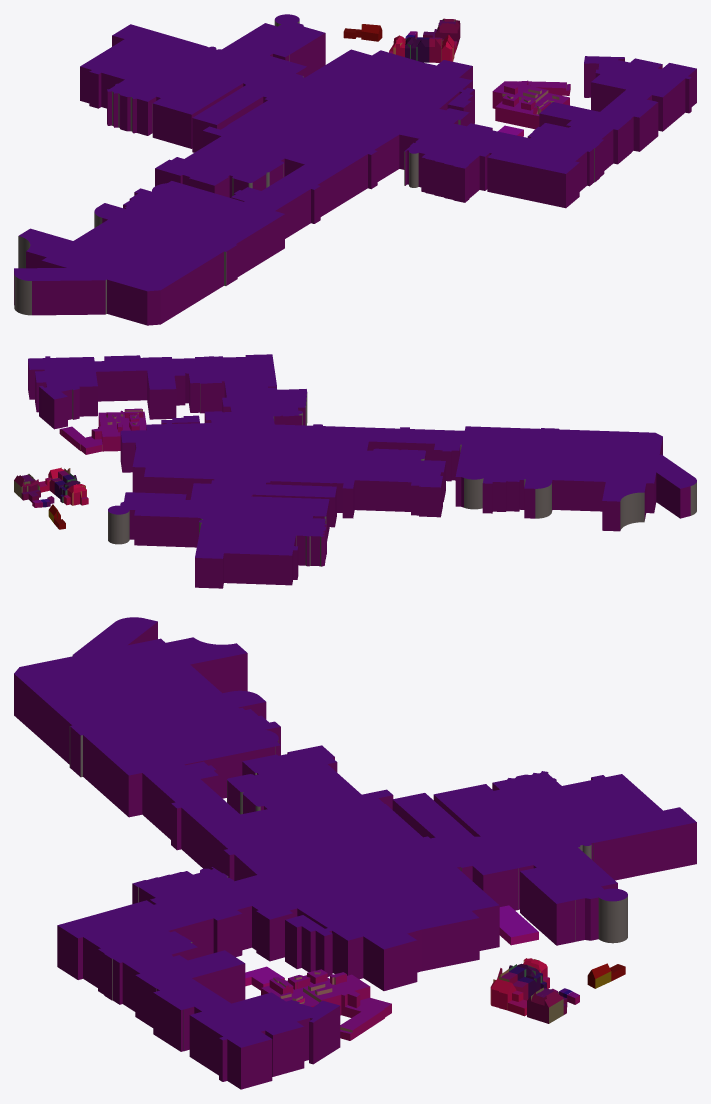
Rendered from buildings_5_11.glb.
3 views of the same model, one above another, from view 1: azimuth 30°, elevation 25°; view 2: azimuth 150°, elevation 25°; view 3: azimuth 270°, elevation 25° (orthographic). The views are drawn at different scales.
Parts seen in each view (by area): view 1: buildings_5_11; view 2: buildings_5_11; view 3: buildings_5_11.
Boxes of the visible parts, x1,y1,x2,y2 form: buildings_5_11: [14, 14, 696, 325]; buildings_5_11: [14, 354, 696, 588]; buildings_5_11: [14, 617, 696, 1089].
Bounding box in the file's own units: 395 × 17.9 × 265.
